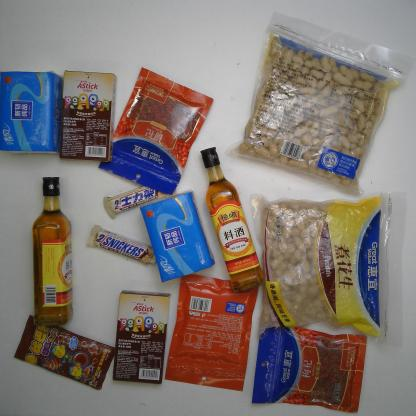Candy: (13, 313, 116, 391)
Chocolate: (85, 224, 161, 267), (102, 180, 178, 221)
Dessert: (58, 70, 118, 163), (112, 290, 171, 384)
Dried Food: (223, 4, 410, 200), (246, 186, 410, 343)
Dried Fruit: (97, 66, 214, 194), (163, 272, 260, 394), (251, 326, 369, 414)
Seasoner: (198, 146, 267, 294), (32, 175, 76, 327)
Tissue: (138, 190, 222, 280), (0, 71, 64, 154)
